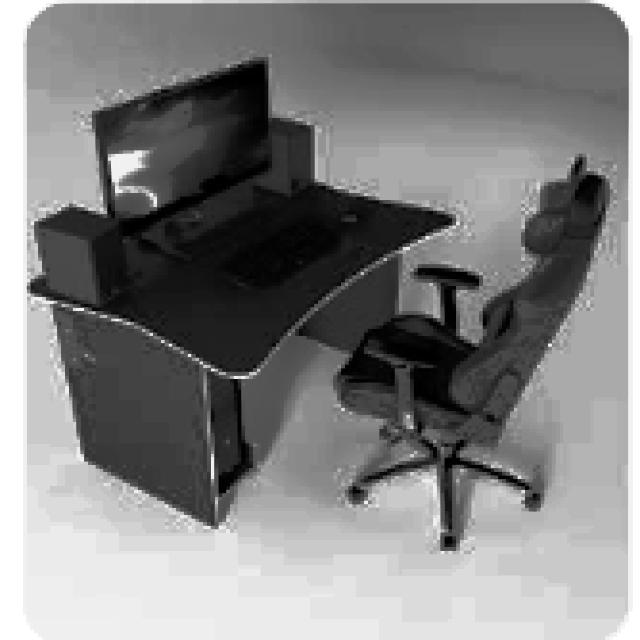book: (333, 154, 610, 547)
table: (27, 175, 452, 526)
